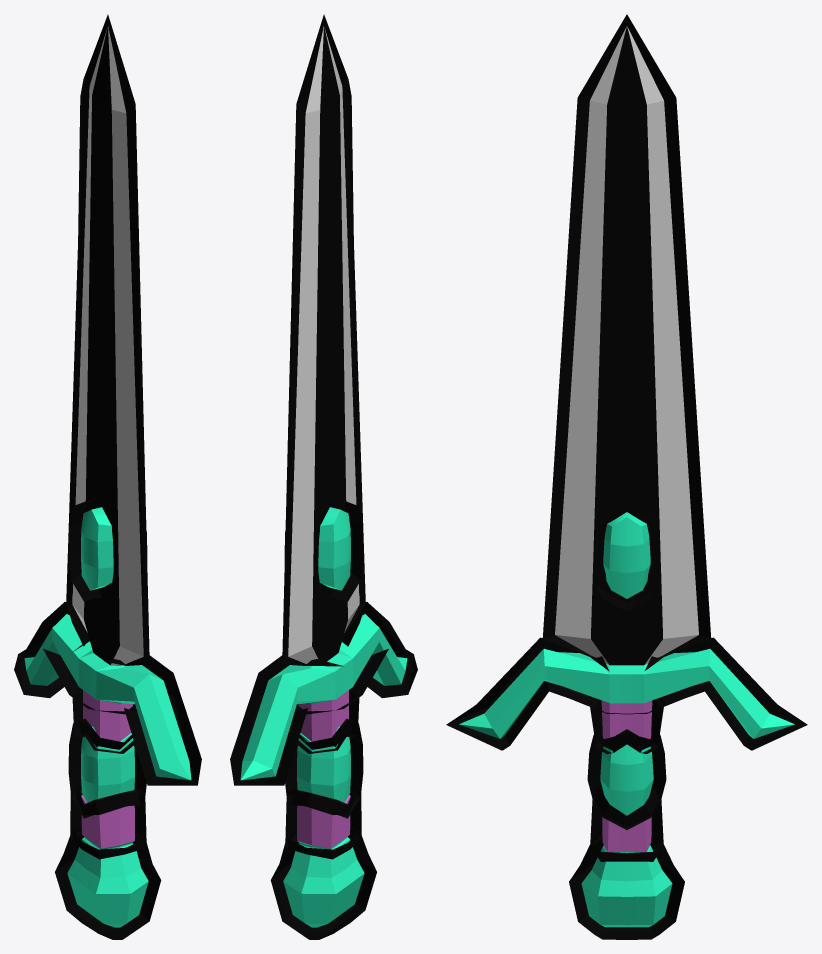
The model's file is Sword_6.fbx.
3 views of the same model, side by side, from view 1: azimuth 30°, elevation 25°; view 2: azimuth 150°, elevation 25°; view 3: azimuth 270°, elevation 25° (orthographic).
Parts seen in each view (by area): view 1: Sword_6, Sword_6_outliner; view 2: Sword_6, Sword_6_outliner; view 3: Sword_6, Sword_6_outliner.
Boxes of the visible parts, x1=… form: Sword_6: x1=24, y1=26, x2=191, y2=927; Sword_6_outliner: x1=14, y1=14, x2=201, y2=939; Sword_6: x1=240, y1=26, x2=407, y2=927; Sword_6_outliner: x1=230, y1=14, x2=417, y2=939; Sword_6: x1=459, y1=26, x2=794, y2=927; Sword_6_outliner: x1=446, y1=14, x2=807, y2=939.
Bounding box in the file's own units: 34.72 × 400 × 142.
